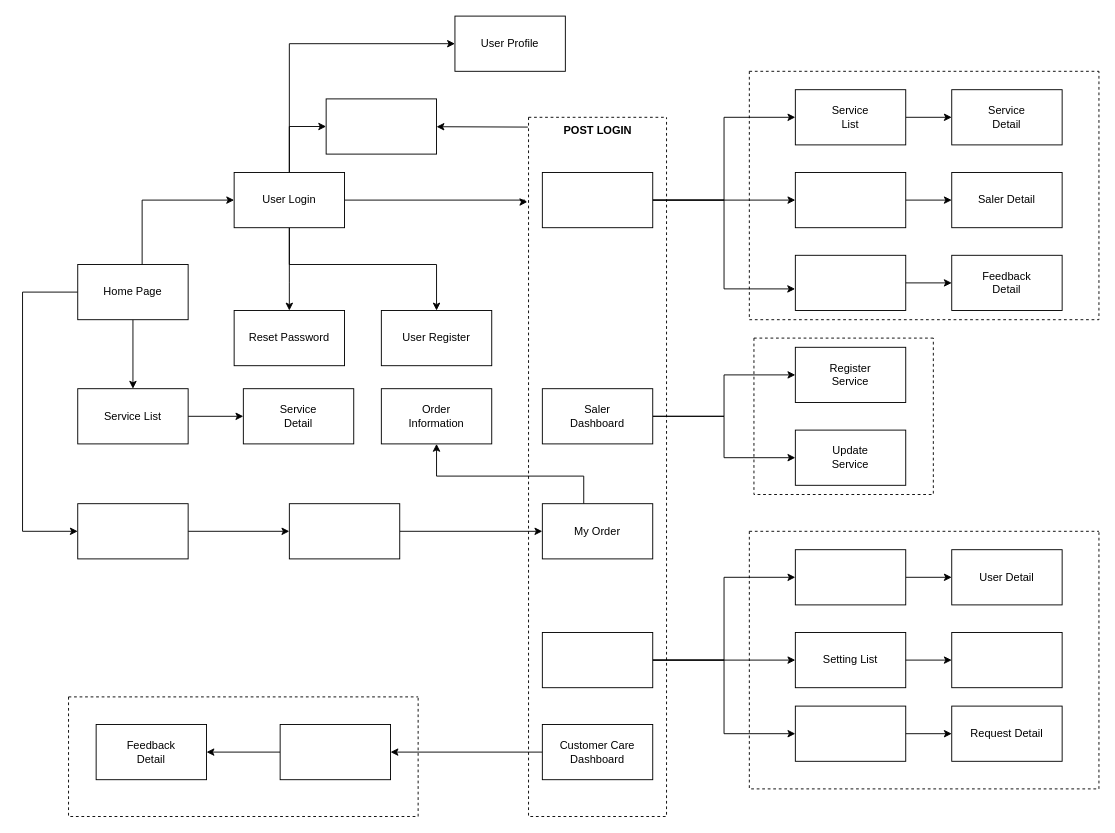
The diagram is 1115 pixels wide and 833 high, and some of its shapes have lost their labels. Each missing label, with the box of its shape:
Admin Dashboard: (541, 632, 653, 688)
Cart Completion: (288, 503, 400, 559)
Cart Detail: (77, 503, 188, 559)
Change Password: (325, 98, 437, 154)
Customer Dashboard: (541, 172, 653, 228)
Feedback: (794, 254, 906, 310)
Feedback List: (279, 724, 391, 780)
Request List: (794, 705, 906, 761)
Saler List: (794, 172, 906, 228)
Setting Detail: (951, 632, 1062, 688)
User List: (794, 549, 906, 605)
